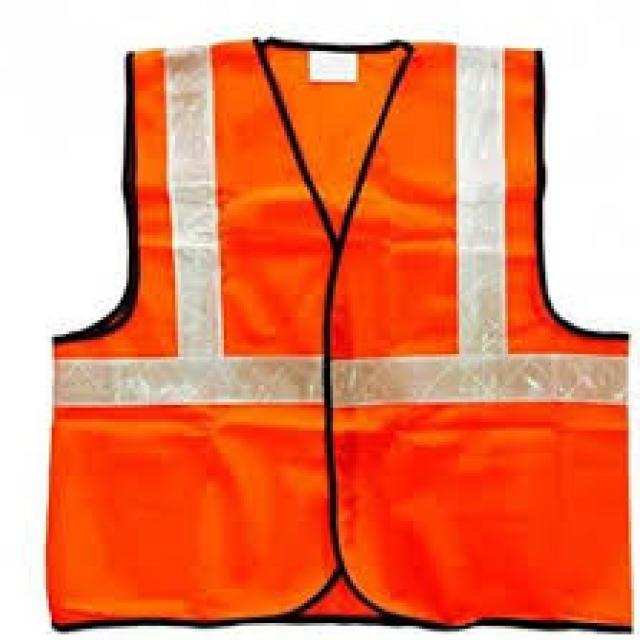Reflective-Jacket: (17, 14, 640, 637)
